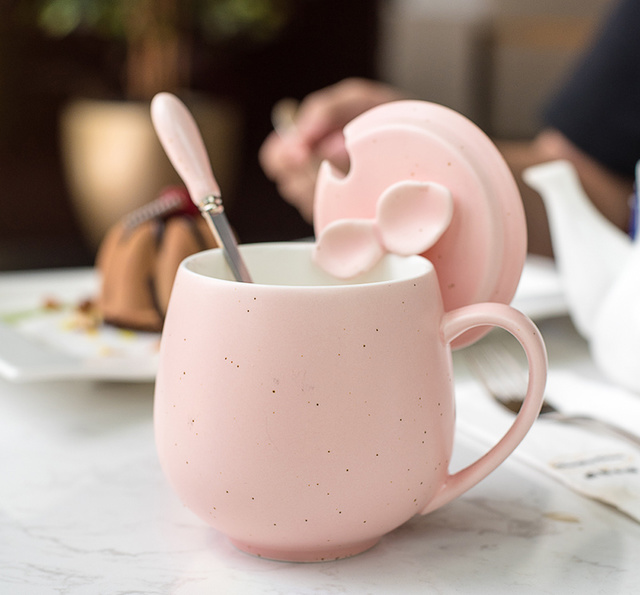cup: (151, 230, 548, 566)
